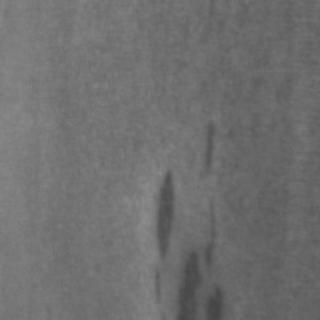inclusion: (150, 148, 222, 316), (146, 160, 178, 262), (189, 118, 221, 182)
